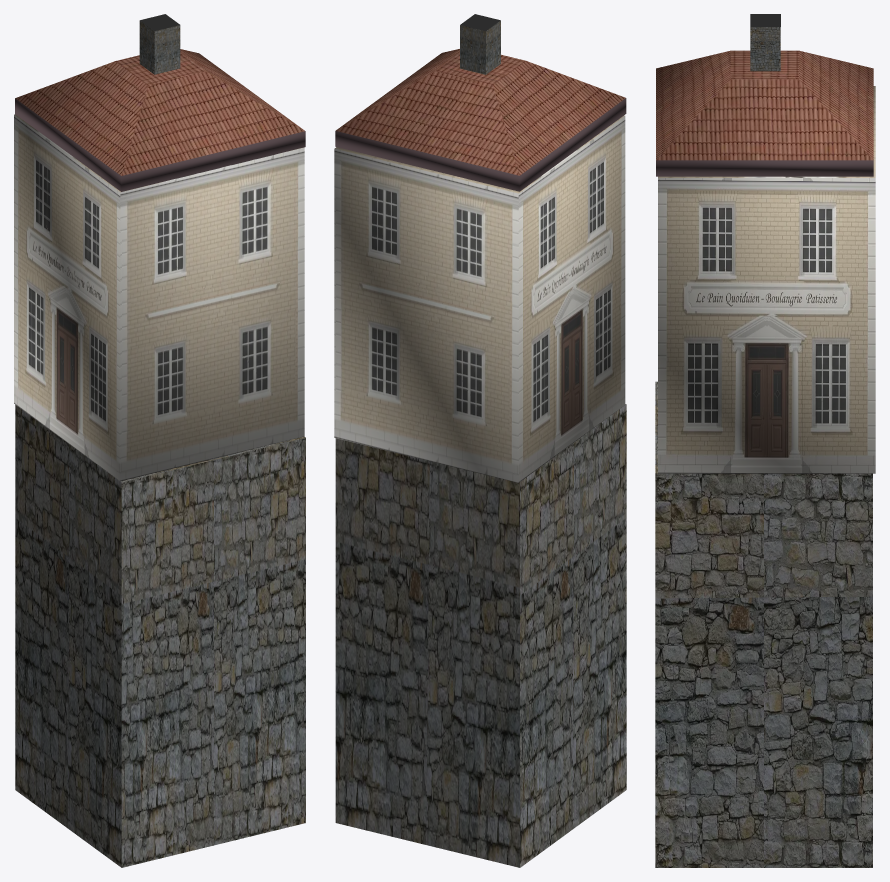
The model's file is bakery.glb.
The picture shows the model from 3 angles, left to right: view 1: azimuth 30°, elevation 25°; view 2: azimuth 150°, elevation 25°; view 3: azimuth 270°, elevation 25°; orthographic projection. The views are drawn at different scales.
Parts seen in each view (by area): view 1: Cube.002, Cube, Cube.001; view 2: Cube.002, Cube, Cube.001; view 3: Cube.002, Cube, Cube.001.
Boxes of the visible parts, x1,y1,x2,y2 form: Cube.002: (15,21,305,867); Cube: (14,114,304,481); Cube.001: (15,49,305,191); Cube.002: (335,20,626,867); Cube: (334,115,625,482); Cube.001: (335,49,626,191); Cube.002: (655,27,872,867); Cube: (658,86,875,473); Cube.001: (656,50,873,176).
Size of the model in its own units: 1 by 4.07 by 1.01.
Materials: 6 (4 with a texture image).
